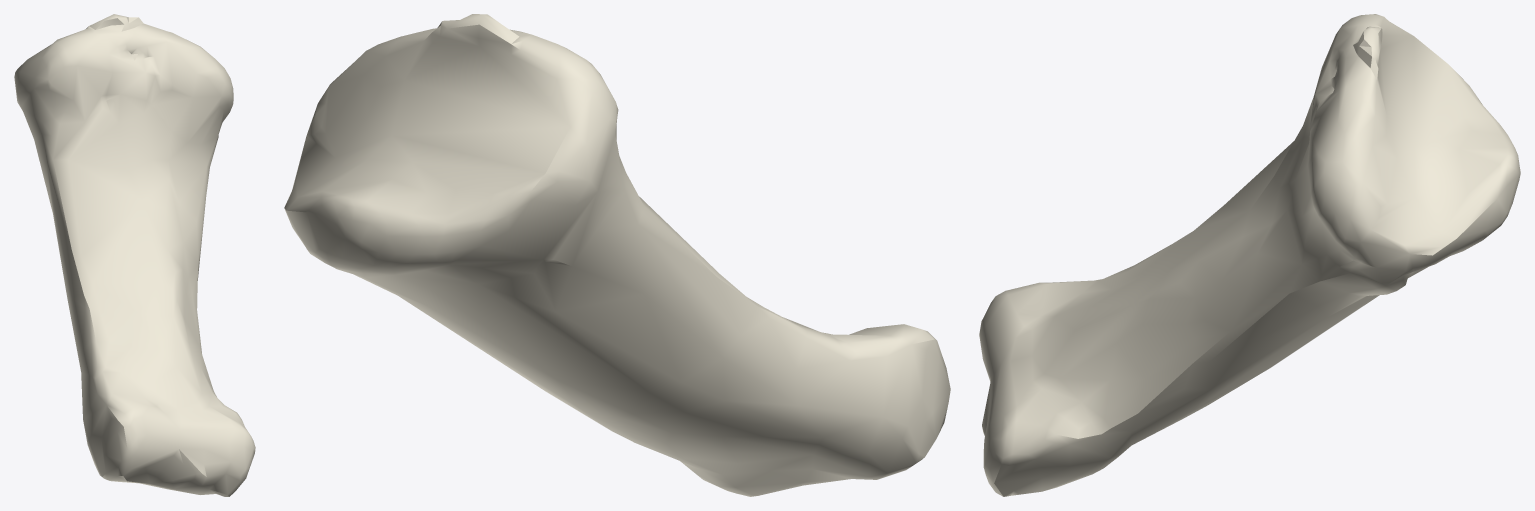
File: fma24455.glb
3 views of the same model, side by side, from view 1: azimuth 30°, elevation 25°; view 2: azimuth 150°, elevation 25°; view 3: azimuth 270°, elevation 25° (orthographic). The views are drawn at different scales.
Visible parts, largest first — view 1: FMA24455; view 2: FMA24455; view 3: FMA24455.
Part boxes in pixels (<box>): FMA24455: <box>14,14,255,496</box>; FMA24455: <box>284,14,950,496</box>; FMA24455: <box>979,14,1520,496</box>.
Size of the model in its own units: 0.0147 by 0.0207 by 0.0209.
